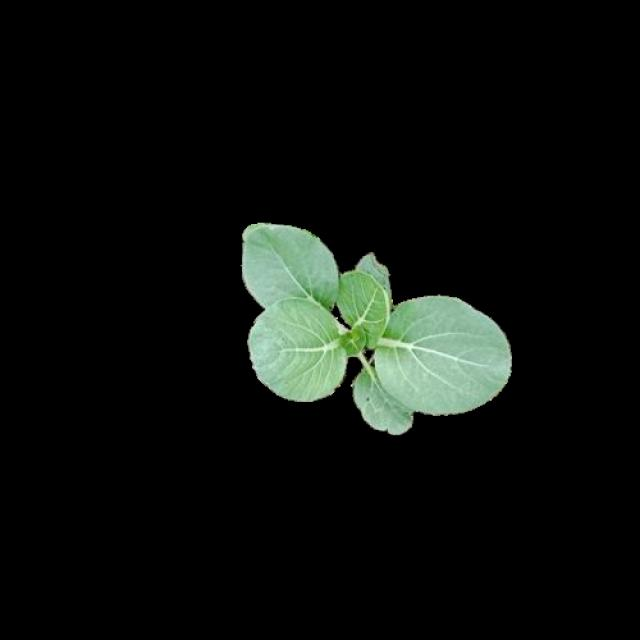not-mature: (240, 223, 510, 437)
unhealthy: (354, 367, 410, 434)
